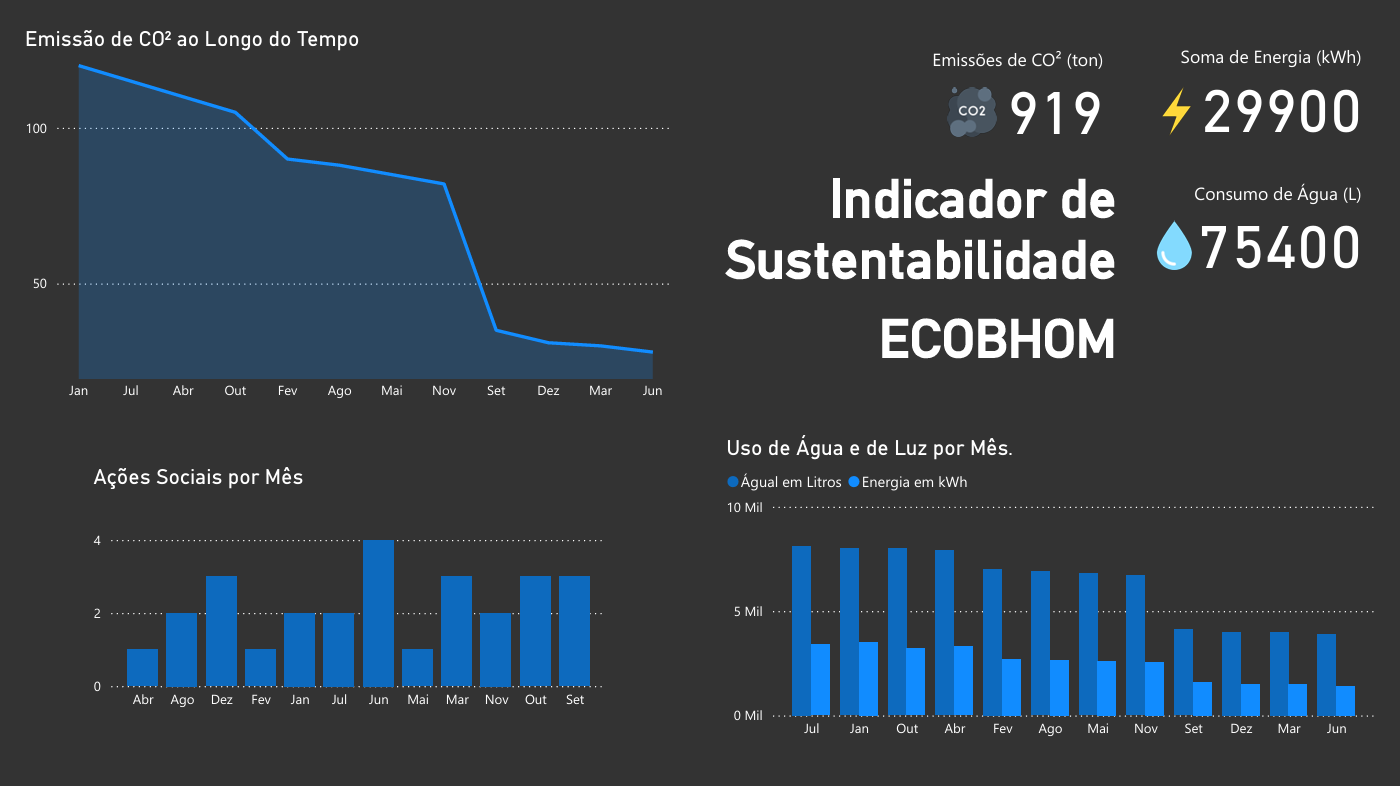

This screenshot's page, from the dashboard's own definition file:
{"tool":"powerbi","page":{"name":"Página 1","canvas":[1280,720],"ordinal":0},"visuals":[{"type":"cardVisual","fields":{"Data":["Sum(Sheet1.Água (L))"]},"box":[1023.8,150,235,123.8],"z":0},{"type":"cardVisual","fields":{"Data":["Sum(Sheet1.CO2_Emitido (ton))"]},"box":[788.8,27.5,235,122.5],"z":1000},{"type":"cardVisual","fields":{"Data":["Sum(Sheet1.Energia (kWh))"]},"box":[1023.8,26.2,235,123.8],"z":2000},{"type":"areaChart","title":"Emissão de CO² ao Longo do Tempo","fields":{"Category":["TabelaMeses.Mes"],"Y":["Sum(Sheet1.CO2_Emitido (ton))"]},"box":[21.4,26.1,599.6,349.1],"z":3000},{"type":"clusteredColumnChart","title":"Ações Sociais por Mês","fields":{"Y":["Sum(Sheet1.Ações_Sociais)"],"Category":["Sheet1.Mês"]},"box":[82.5,423.8,477.5,232.5],"z":4000},{"type":"clusteredColumnChart","title":"Uso de Água e de Luz por Mês.","fields":{"Y":["Sum(Sheet1.Água (L))","Sum(Sheet1.Energia (kWh))"],"Category":["Sheet1.Mês"]},"box":[658.8,397.5,600,285],"z":5000},{"type":"image","box":[1046.2,41.2,55,123.8],"z":6000},{"type":"image","box":[860,42.5,55,123.8],"z":7000},{"type":"image","box":[1043.8,176.2,55,97.5],"z":8000},{"type":"textbox","box":[640,150,383.8,210],"z":9000}]}

Visuals, with their boxes in screenshot pixels (x1, y1, x2, y2), scaled from the page's 1280x720 canvas onto the 1400x786 screenshot:
cardVisual - Sum(Sheet1.Água (L)): box(1120, 164, 1377, 299)
cardVisual - Sum(Sheet1.CO2_Emitido (ton)): box(863, 30, 1120, 164)
cardVisual - Sum(Sheet1.Energia (kWh)): box(1120, 29, 1377, 164)
"Emissão de CO² ao Longo do Tempo" areaChart: box(23, 28, 679, 410)
"Ações Sociais por Mês" clusteredColumnChart: box(90, 463, 612, 716)
"Uso de Água e de Luz por Mês." clusteredColumnChart: box(721, 434, 1377, 745)
image: box(1144, 45, 1204, 180)
image: box(941, 46, 1001, 182)
image: box(1142, 192, 1202, 299)
textbox: box(700, 164, 1120, 393)
